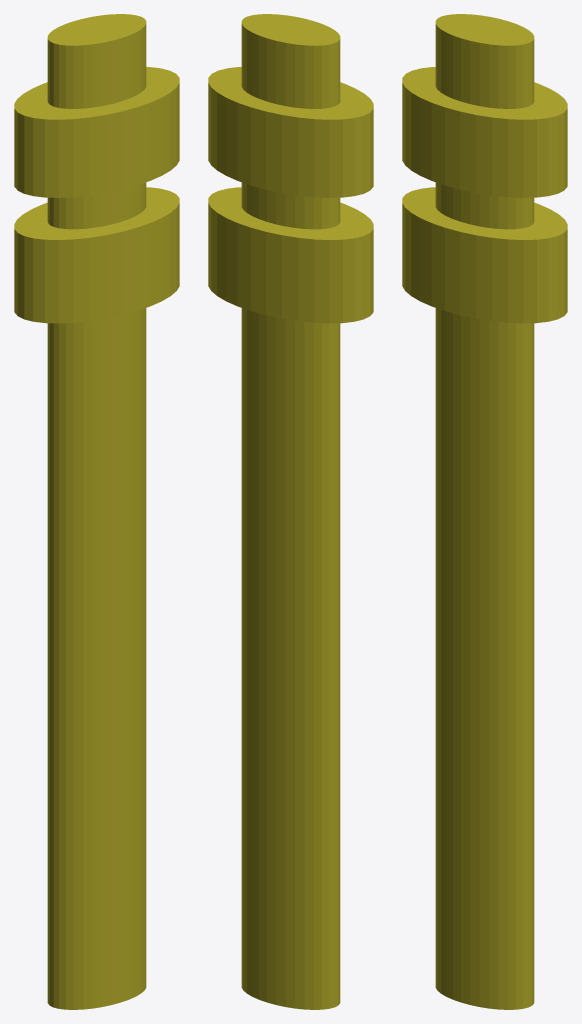
File: keymiddle.fbx
The picture shows the model from 3 angles, left to right: view 1: azimuth 30°, elevation 25°; view 2: azimuth 150°, elevation 25°; view 3: azimuth 330°, elevation 25°; orthographic projection.
Visible parts, largest first — view 1: Cylinder; view 2: Cylinder; view 3: Cylinder.
Boxes of the visible parts, x1,y1,x2,y2 form: Cylinder: [14, 14, 179, 1009]; Cylinder: [208, 14, 373, 1009]; Cylinder: [402, 14, 567, 1009].
Bounding box in the file's own units: 50.15 × 292 × 27.46.
